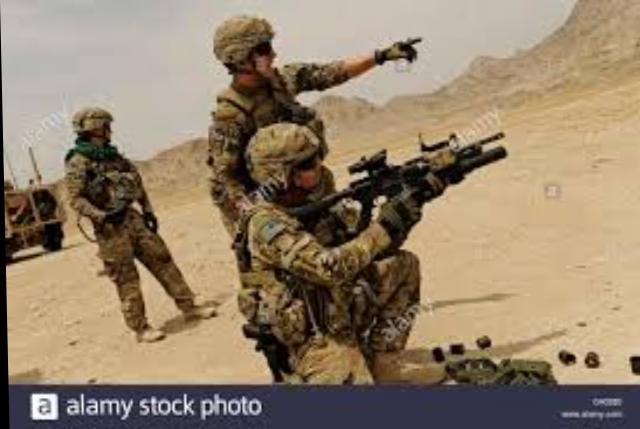other: (240, 132, 391, 377), (205, 18, 342, 267), (62, 106, 201, 337)
